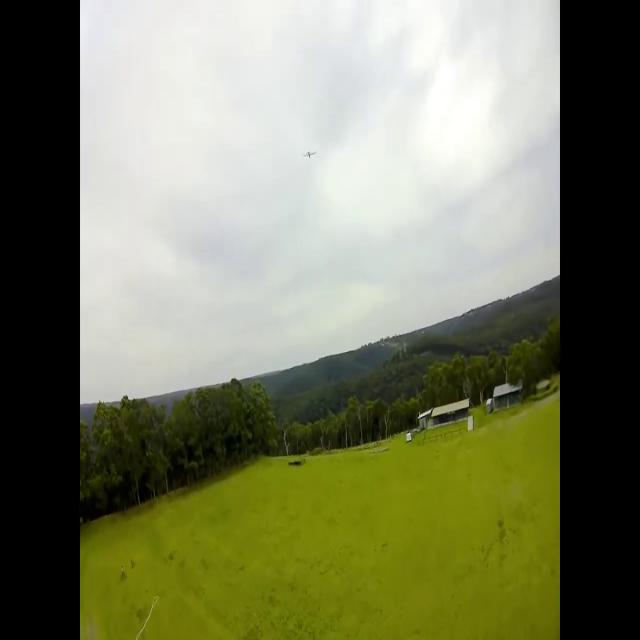iha: (303, 149, 315, 161)
